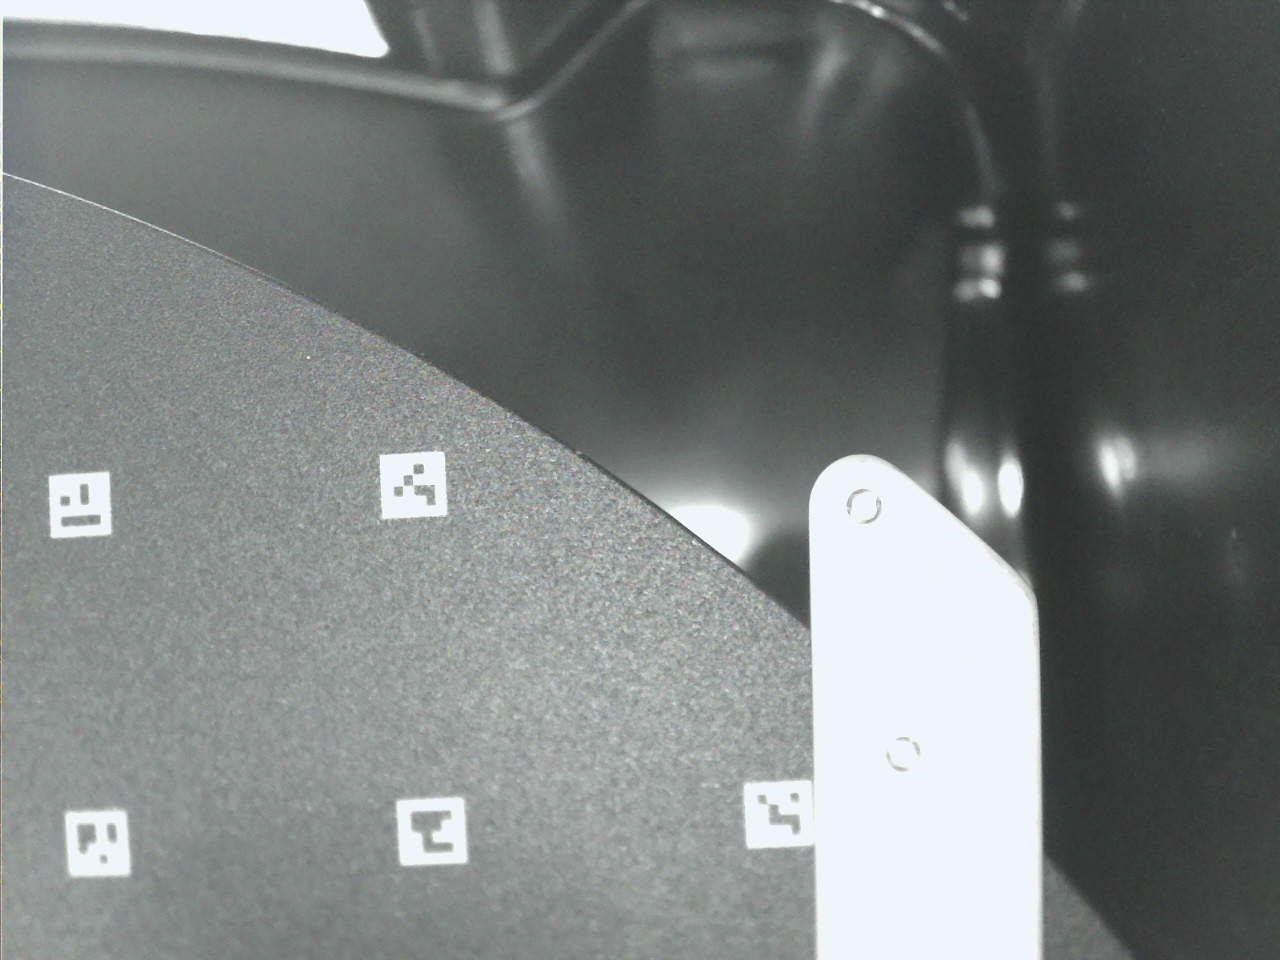forktip: (795, 432, 1058, 960)
